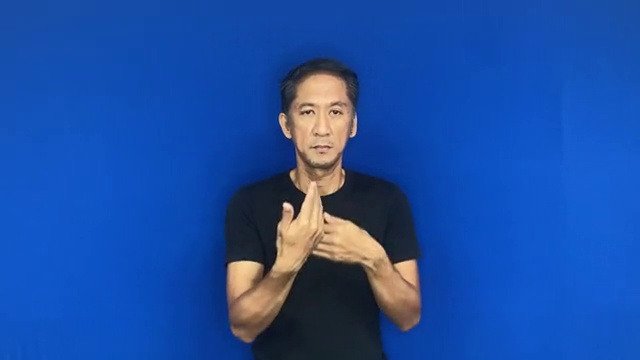bread: (266, 175, 389, 291)
